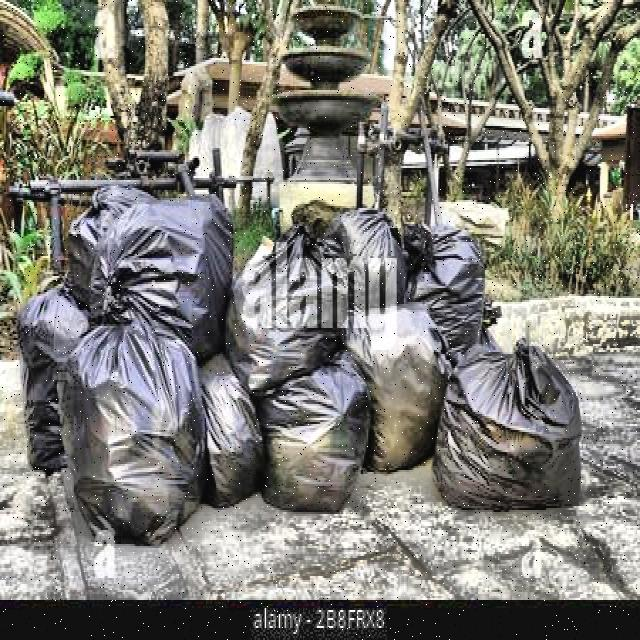Trashbag: (62, 333, 204, 539), (434, 352, 590, 514), (91, 191, 249, 337), (258, 360, 380, 517), (227, 232, 349, 384), (364, 300, 448, 476), (195, 355, 269, 512), (15, 296, 76, 478), (418, 226, 492, 352), (335, 194, 410, 315)
